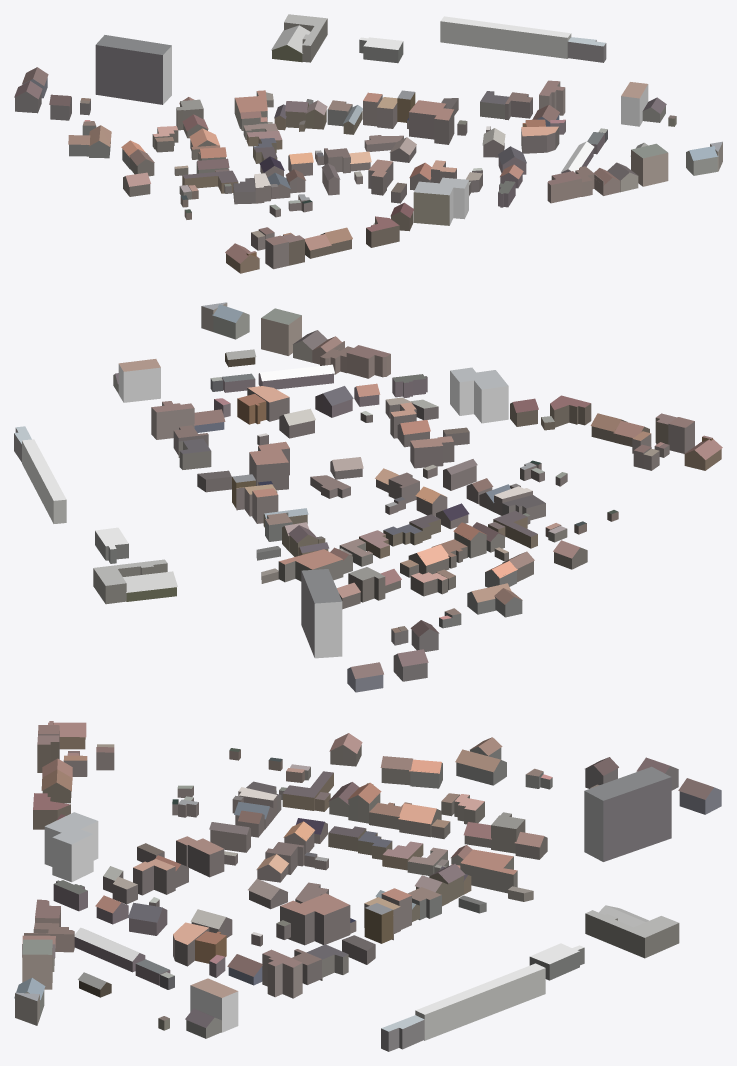
3 views of the same model, one above another, from view 1: azimuth 30°, elevation 25°; view 2: azimuth 150°, elevation 25°; view 3: azimuth 270°, elevation 25° (orthographic). The views are drawn at different scales.
Parts seen in each view (by area): view 1: tuile; view 2: tuile; view 3: tuile.
Part boxes in pixels (<box>): tuile: <box>14,14,722,273</box>; tuile: <box>14,302,722,692</box>; tuile: <box>14,721,721,1051</box>.
Bounding box in the file's own units: 261 × 27.58 × 258.
